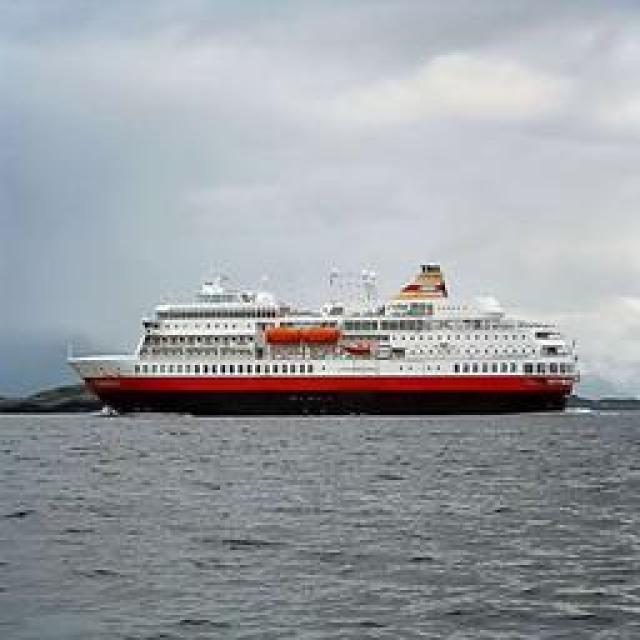ship2: (64, 256, 583, 418)
